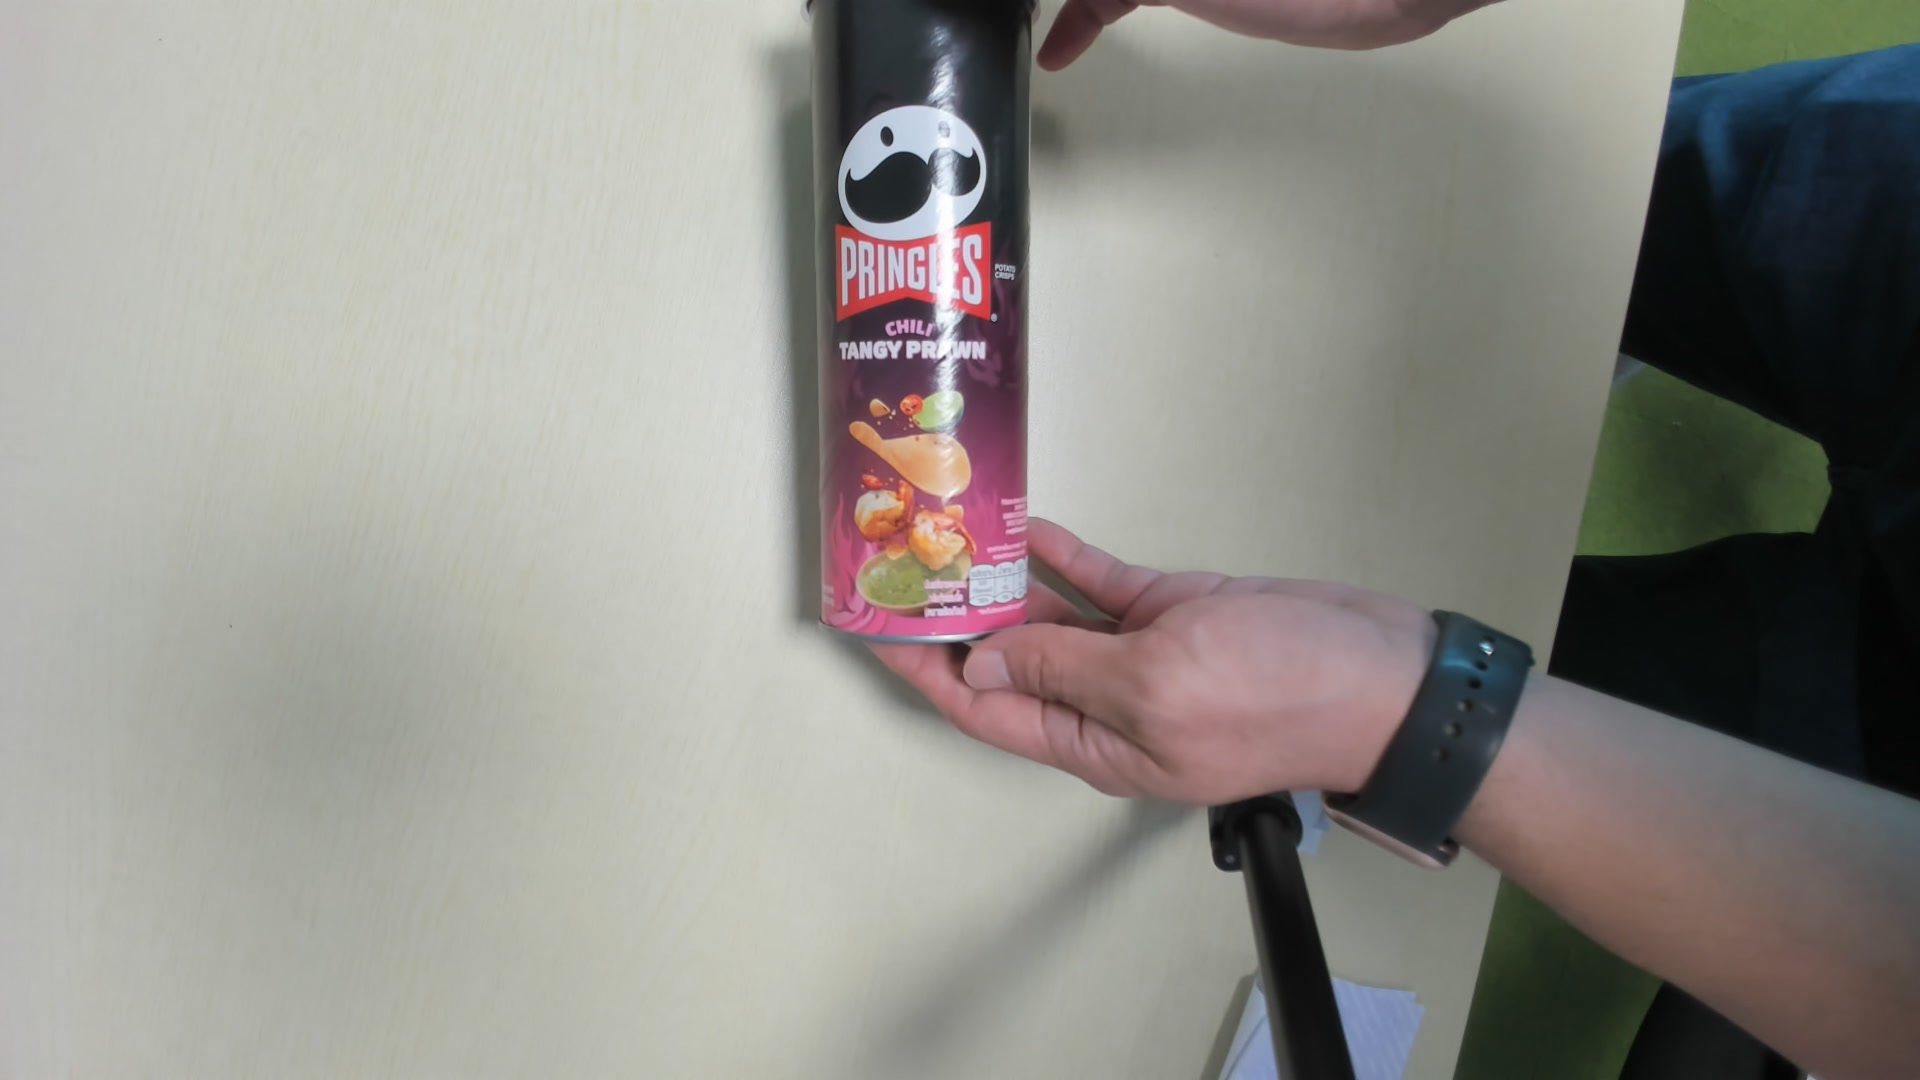PotatoChipsKeropok_0-99g_NonHalal_NonHealthy: (800, 3, 1047, 646)
